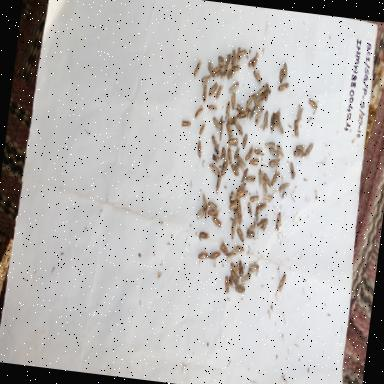pbw: (210, 170, 223, 195), (289, 116, 302, 140), (192, 139, 204, 161), (270, 166, 282, 188), (220, 274, 232, 296), (254, 216, 270, 232), (204, 58, 216, 78), (302, 140, 314, 160), (234, 204, 244, 228), (287, 160, 298, 181), (239, 270, 253, 286), (276, 180, 290, 196), (226, 197, 240, 213), (208, 160, 222, 176), (231, 120, 244, 137), (225, 144, 235, 166), (222, 51, 232, 73), (219, 157, 229, 179), (242, 92, 252, 114), (294, 102, 304, 124), (270, 108, 281, 128), (218, 238, 230, 256), (234, 152, 246, 170), (274, 142, 286, 160), (198, 82, 208, 103), (235, 257, 245, 278), (230, 242, 246, 255), (224, 248, 237, 264), (234, 226, 246, 243), (244, 144, 254, 164), (255, 168, 266, 186), (232, 282, 246, 296), (266, 156, 280, 170), (228, 162, 240, 178), (217, 120, 225, 144), (256, 82, 268, 98), (199, 192, 209, 211), (192, 58, 202, 77), (254, 104, 263, 125), (229, 217, 237, 240), (197, 228, 210, 242), (277, 80, 290, 94), (225, 134, 239, 147), (254, 202, 268, 215), (246, 262, 260, 275), (208, 249, 222, 262), (236, 188, 250, 201), (291, 148, 306, 160), (228, 269, 240, 284), (228, 80, 240, 95), (207, 82, 218, 98), (210, 113, 220, 130), (250, 92, 260, 109), (243, 229, 256, 242), (250, 68, 262, 82), (260, 192, 274, 204), (228, 90, 236, 111), (246, 222, 258, 236), (243, 174, 257, 186), (234, 180, 246, 194), (228, 191, 242, 203), (210, 215, 222, 229), (274, 212, 282, 233), (240, 166, 249, 184), (280, 62, 289, 80), (262, 110, 270, 130), (194, 103, 204, 119), (262, 172, 272, 188), (254, 96, 264, 112), (222, 122, 232, 138), (268, 110, 276, 130), (236, 108, 249, 120), (195, 250, 208, 262), (252, 144, 264, 157), (248, 155, 260, 168), (267, 146, 280, 158), (262, 138, 276, 149), (208, 136, 219, 150), (198, 120, 207, 137), (260, 177, 269, 194), (232, 208, 240, 227), (216, 53, 226, 68), (225, 114, 237, 126), (234, 102, 246, 114), (234, 46, 242, 64), (218, 146, 227, 162), (276, 119, 285, 135), (207, 200, 220, 211), (195, 206, 205, 220), (203, 202, 210, 222), (224, 101, 231, 120), (237, 46, 248, 58), (247, 194, 260, 204), (219, 68, 229, 81), (206, 208, 219, 218), (246, 200, 254, 216), (252, 52, 260, 68), (216, 82, 223, 100), (227, 66, 236, 80), (230, 48, 237, 66), (231, 63, 241, 75), (226, 274, 234, 289), (180, 118, 192, 128), (264, 82, 270, 102), (294, 142, 306, 152), (210, 152, 220, 164), (233, 146, 240, 163), (228, 260, 237, 273), (242, 134, 249, 150), (206, 101, 216, 112), (248, 105, 255, 120), (276, 67, 283, 82), (247, 54, 255, 67), (211, 68, 221, 78), (200, 74, 211, 83), (213, 63, 223, 72)
